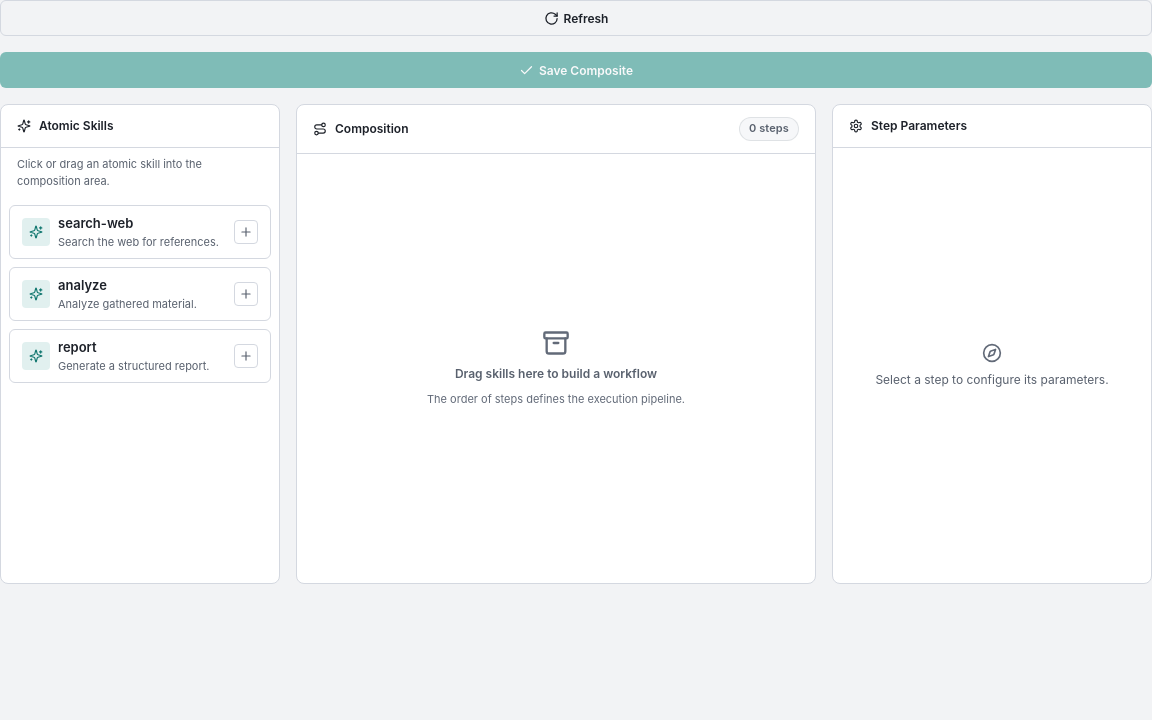
SkillEditor.vue › opens the save drawer when the save button is clicked
Click the list item with class "atom-card" that starts with "search-web" at (140, 232), box [9,205,271,259]
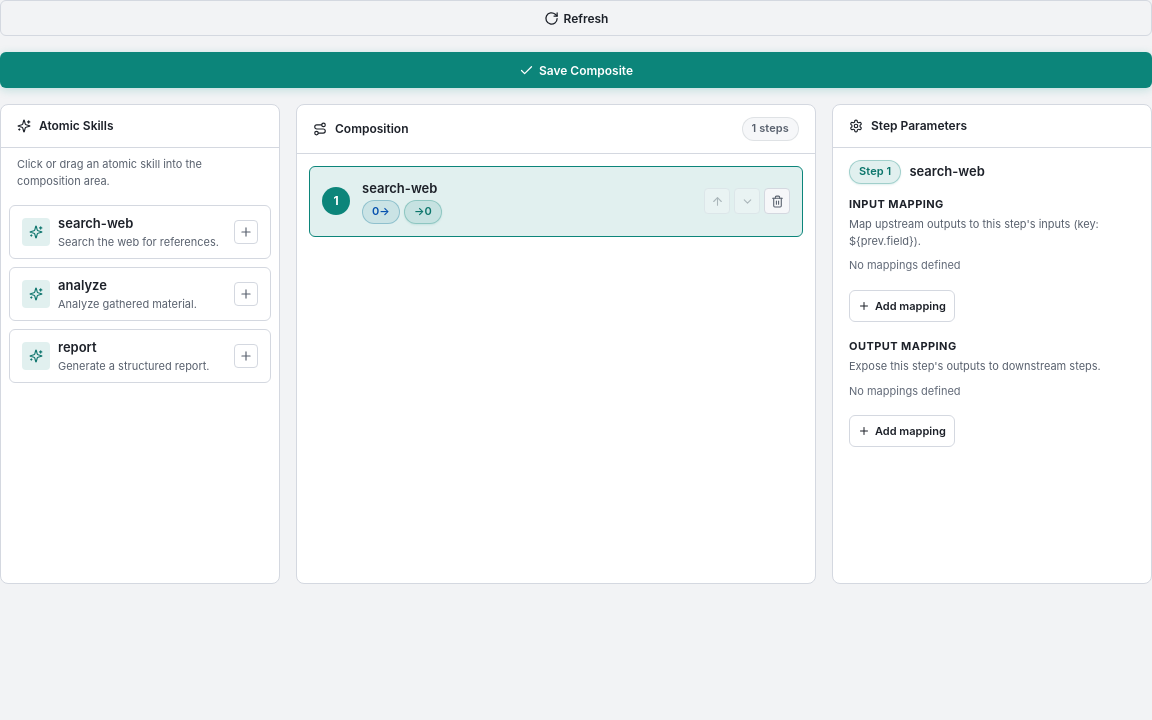
Save button is the primary action in the header
Click the button with class "btn--primary" at (576, 70), box [0,52,1151,88]
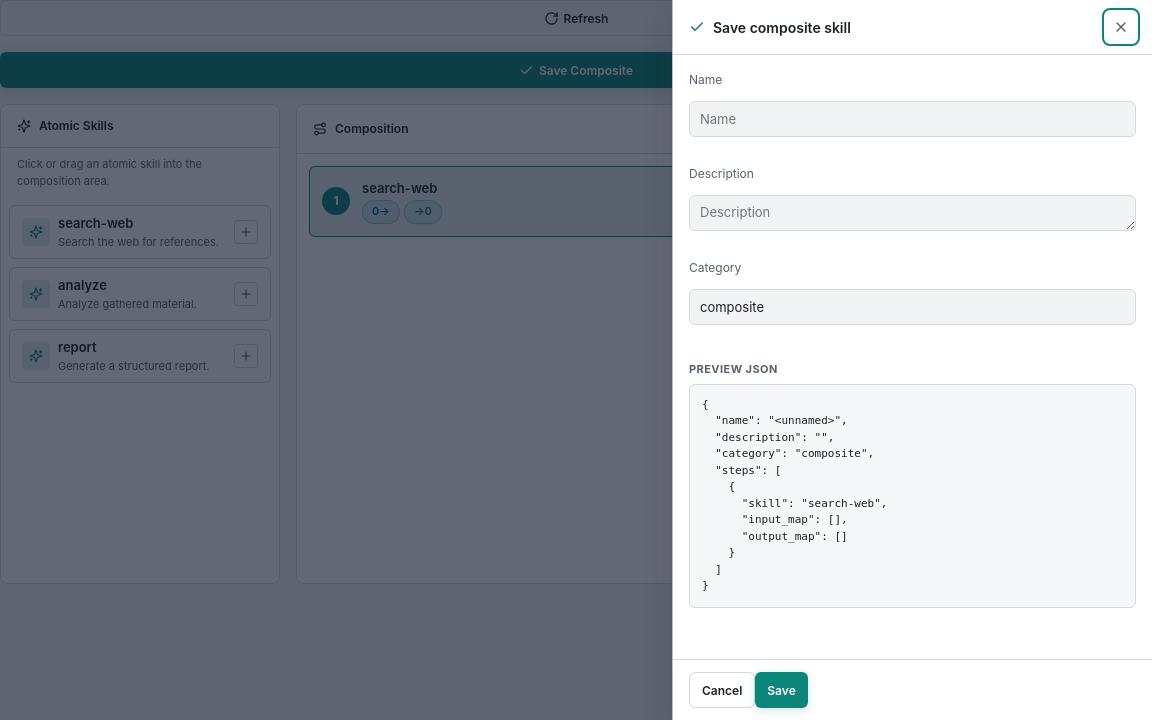
Expected: the dialog is shown, [672,0,1151,719]
Expected: the dialog shows "Save", [755,672,808,708]
